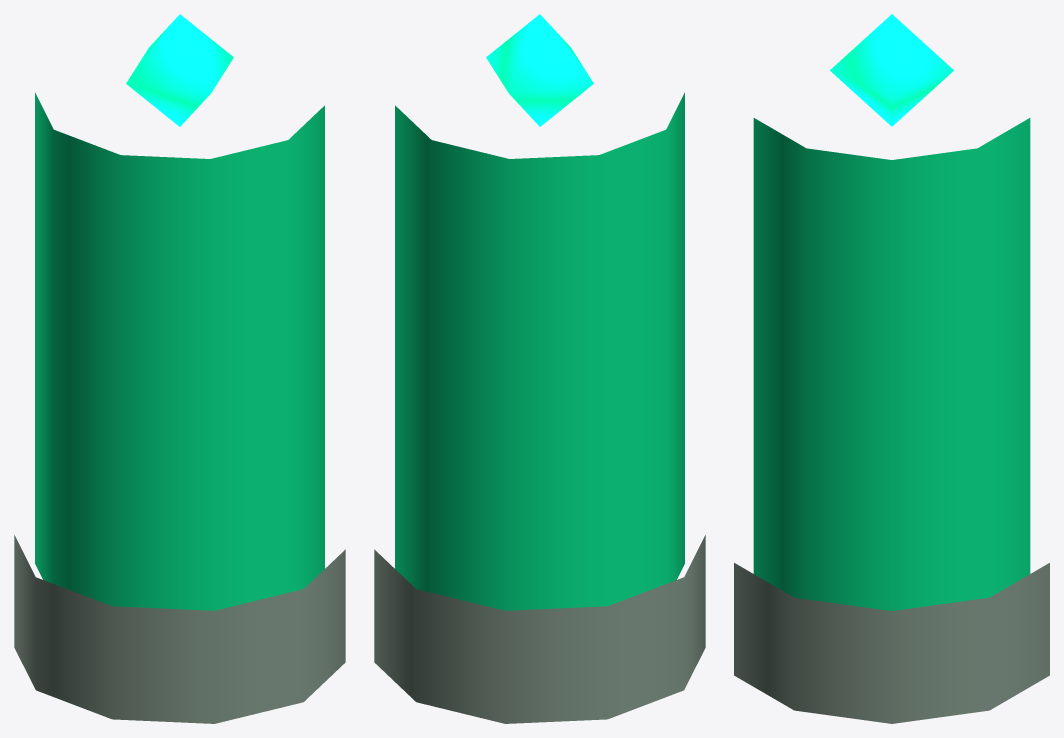
File: tubos_vacio.glb
The picture shows the model from 3 angles, left to right: view 1: azimuth 30°, elevation 25°; view 2: azimuth 150°, elevation 25°; view 3: azimuth 270°, elevation 25°; orthographic projection.
Visible parts, largest first — view 1: Accent, Base, Glow; view 2: Accent, Base, Glow; view 3: Accent, Base, Glow.
Part boxes in pixels (left/top/right/bottom): Accent: left=35, top=92, right=324, bottom=610; Base: left=14, top=535, right=345, bottom=723; Glow: left=126, top=14, right=233, bottom=126; Accent: left=395, top=92, right=684, bottom=610; Base: left=374, top=535, right=705, bottom=723; Glow: left=486, top=14, right=593, bottom=126; Accent: left=753, top=118, right=1030, bottom=610; Base: left=734, top=563, right=1049, bottom=723; Glow: left=830, top=14, right=953, bottom=126.
Size of the model in its own units: 0.16 by 0.34 by 0.1522.
